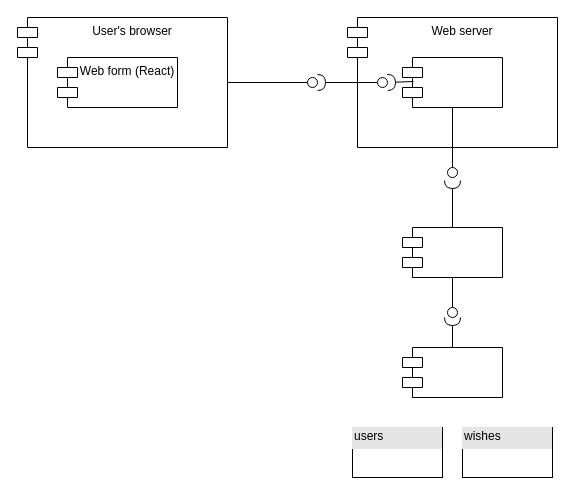
Some shapes in this 575 by 495 pixel diagram are drawn without their labels. Here are the shapes that lost their labels. From the top down, the centre of each, then its label:
At point (452, 82): "Web backend".
At point (452, 252): "Storage-API".
At point (452, 372): "Database".
